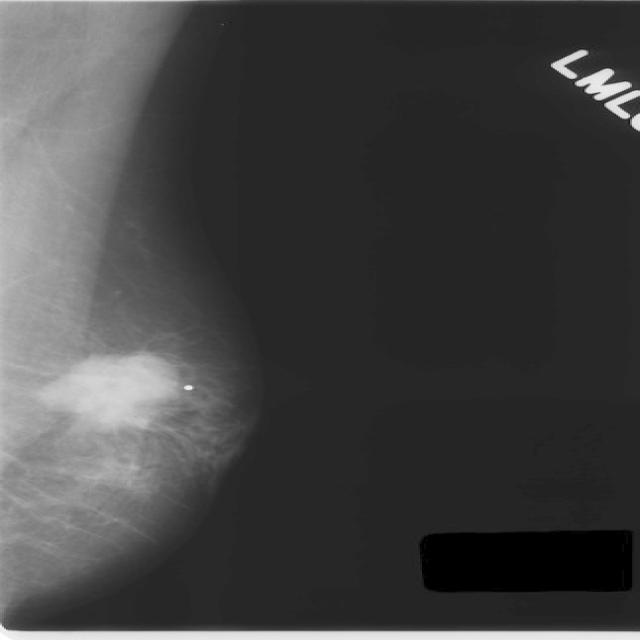tumour: (32, 353, 178, 429)
